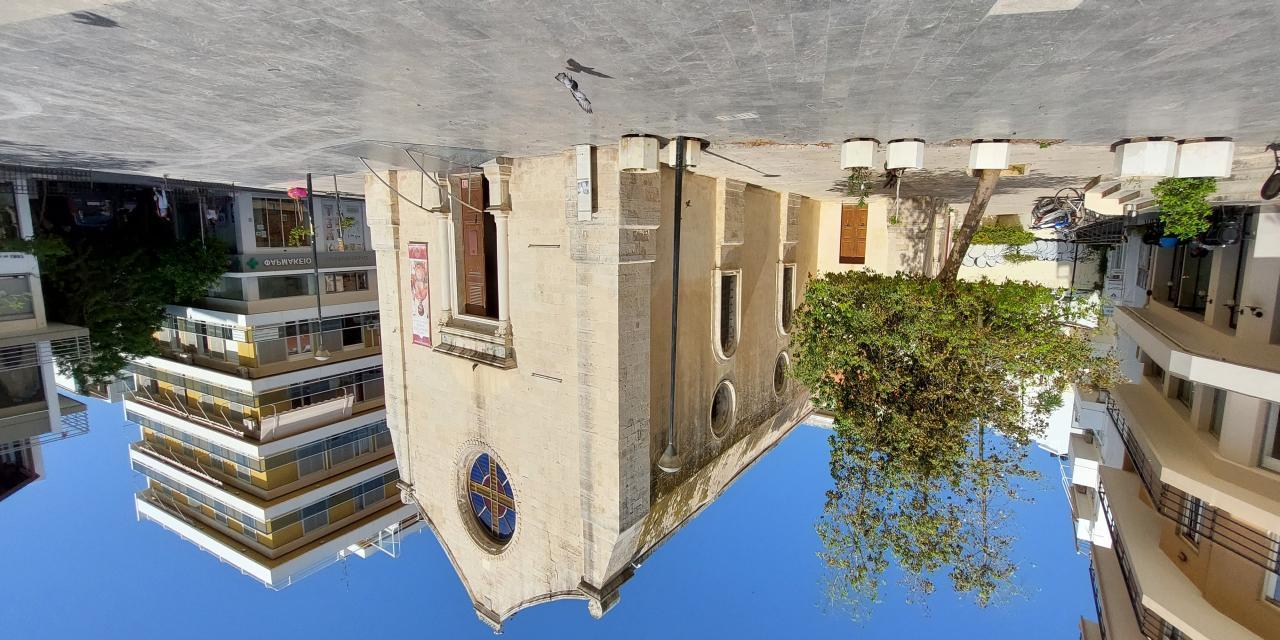Agia Aikaterini: (357, 132, 826, 640)
